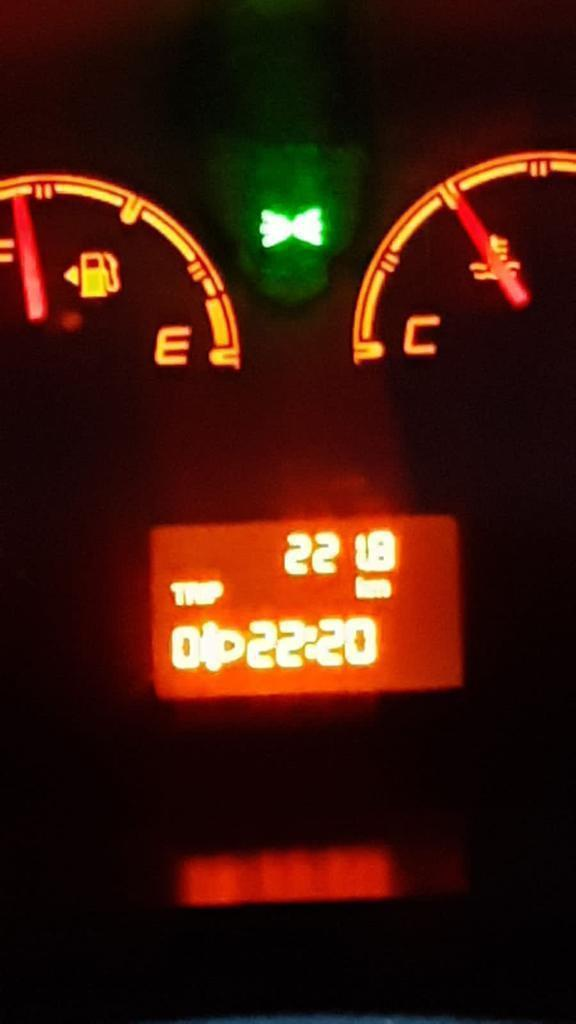0: (345, 616, 378, 667), (170, 625, 200, 669)
1: (353, 531, 368, 572)
2: (246, 619, 275, 668), (316, 618, 344, 666), (276, 619, 304, 667), (283, 531, 311, 575), (312, 531, 341, 573)
8: (366, 529, 396, 571)
X: (369, 577, 393, 600), (303, 625, 318, 659), (168, 581, 186, 606), (208, 579, 224, 605), (354, 575, 369, 602), (187, 580, 200, 606), (200, 580, 208, 609)
odometer: (148, 515, 469, 700)
